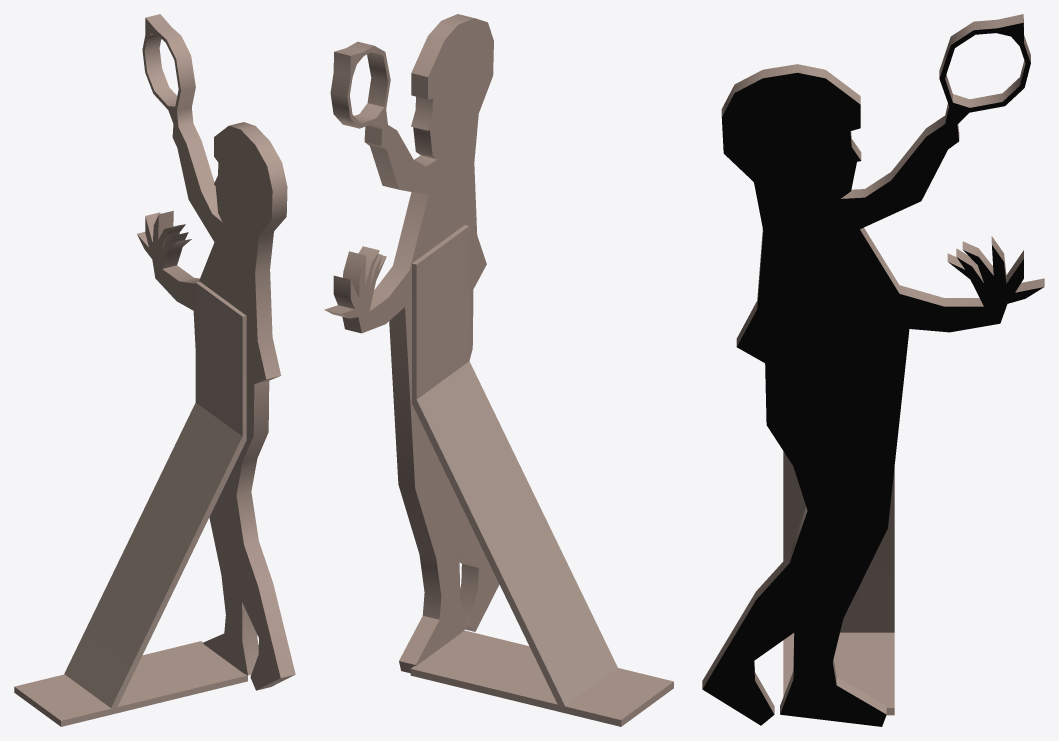
The model's file is Gutt badminton 2.FBX.
3 views of the same model, side by side, from view 1: azimuth 30°, elevation 25°; view 2: azimuth 150°, elevation 25°; view 3: azimuth 270°, elevation 25° (orthographic). The views are drawn at different scales.
Parts seen in each view (by area): view 1: Gutt badminton 2; view 2: Gutt badminton 2; view 3: Gutt badminton 2.
Boxes of the visible parts, left/top/right/bottom form: Gutt badminton 2: left=14, top=14, right=295, bottom=726; Gutt badminton 2: left=324, top=14, right=673, bottom=726; Gutt badminton 2: left=702, top=14, right=1044, bottom=726.
Size of the model in its own units: 40.25 by 114 by 50.1.
